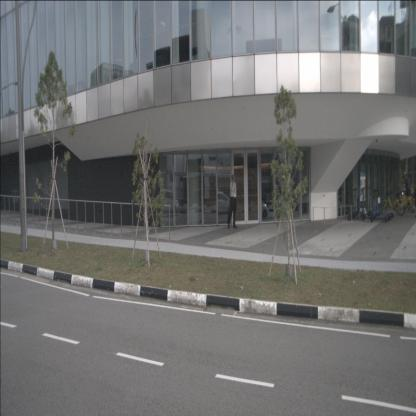human-pedestrian-adult: (227, 174, 238, 229)
vehicle-car: (203, 191, 234, 213), (156, 189, 180, 213)
